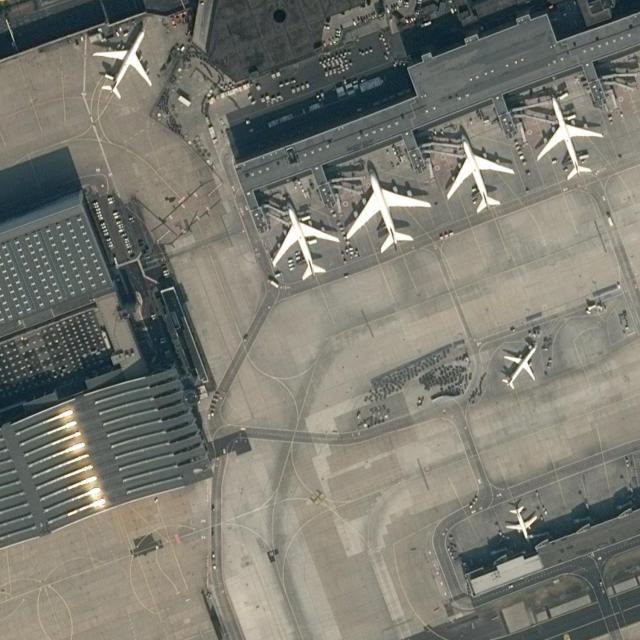Aircraft: (343, 166, 432, 252), (532, 92, 605, 181), (266, 203, 341, 281), (444, 134, 517, 213), (89, 23, 151, 99), (495, 339, 540, 391), (503, 501, 541, 543)
